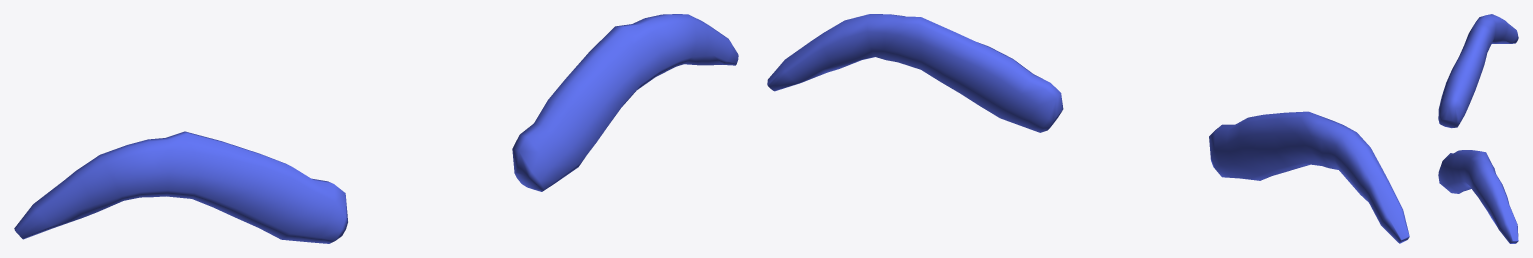
File: Eyebrows_19_03.fbx
3 views of the same model, side by side, from view 1: azimuth 30°, elevation 25°; view 2: azimuth 150°, elevation 25°; view 3: azimuth 270°, elevation 25° (orthographic). The views are drawn at different scales.
Visible parts, largest first — view 1: Eyebrows_19_03; view 2: Eyebrows_19_03; view 3: Eyebrows_19_03.
Part boxes in pixels (bbox=[...]): Eyebrows_19_03: bbox=[14, 14, 738, 243]; Eyebrows_19_03: bbox=[767, 14, 1409, 243]; Eyebrows_19_03: bbox=[1438, 14, 1518, 243].
Bounding box in the file's own units: 18.29 × 2.86 × 3.02.
